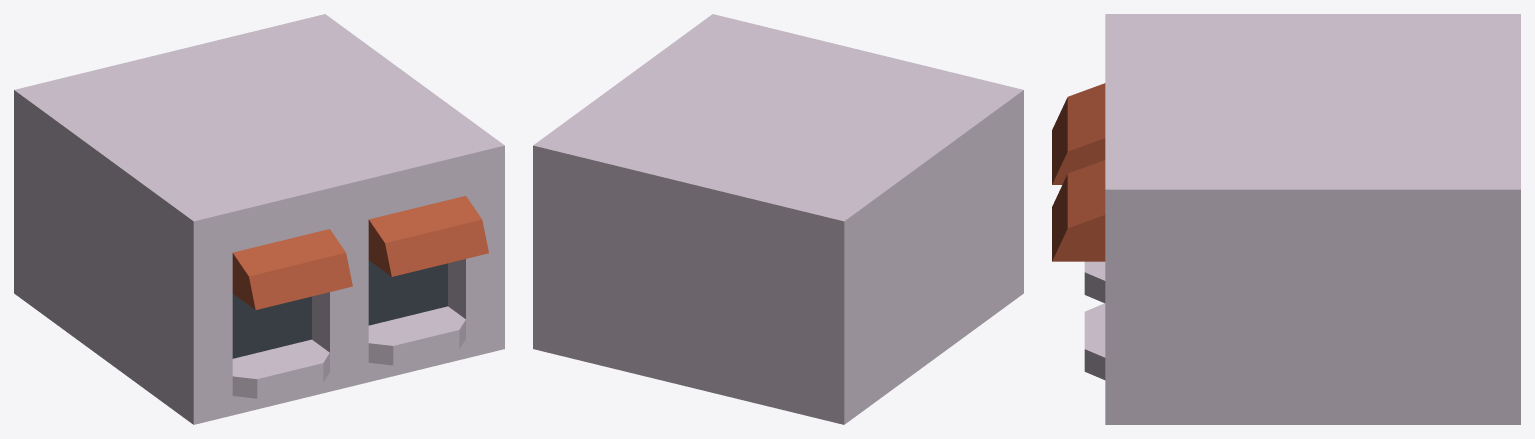
The model's file is building-window-awnings.glb.
3 renders of one model, left to right at view 1: azimuth 30°, elevation 25°; view 2: azimuth 150°, elevation 25°; view 3: azimuth 270°, elevation 25°, orthographic. The views are drawn at different scales.
Size of the model in its own units: 1 by 0.625 by 1.13.
